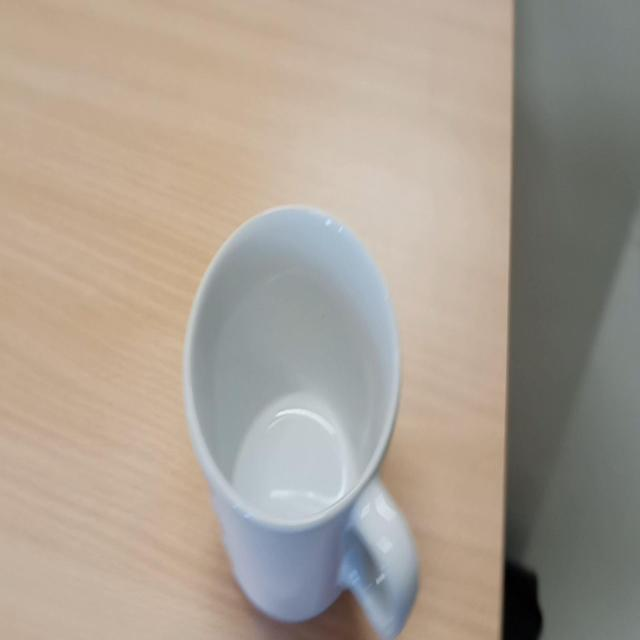cup: (180, 197, 423, 640)
